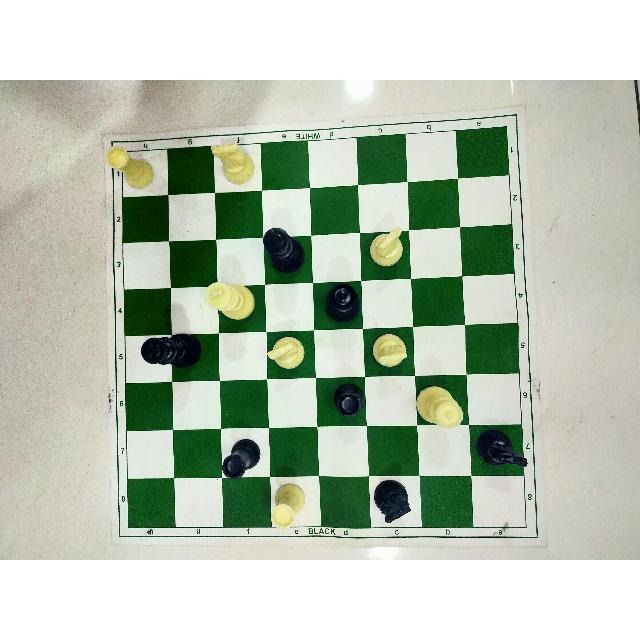black-king: (136, 329, 205, 369), (260, 226, 305, 277)
black-knight: (474, 431, 530, 475), (372, 477, 409, 527)
black-queen: (318, 283, 362, 328)
black-rook: (220, 435, 264, 483), (332, 382, 365, 418)
white-king: (204, 277, 252, 323)
white-knight: (205, 141, 259, 187), (366, 222, 410, 272), (368, 329, 413, 373), (266, 331, 308, 375)
white-queen: (410, 381, 462, 431)
white-rook: (105, 143, 154, 193), (267, 483, 309, 530)
